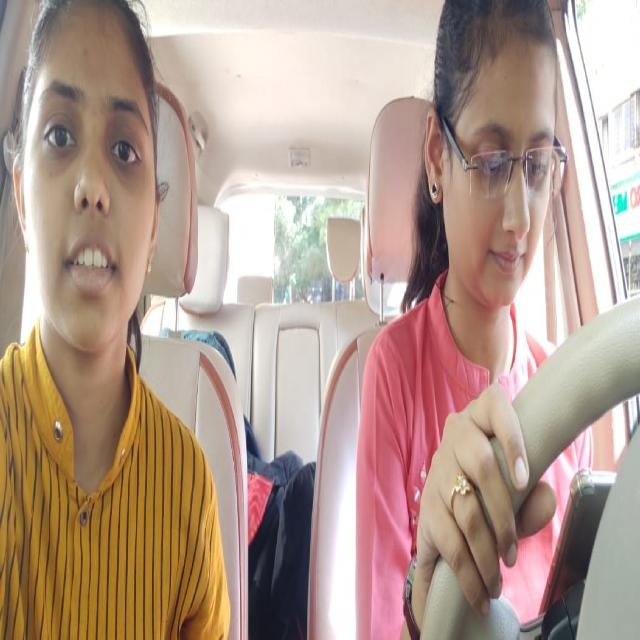mobile: (539, 462, 621, 640)
person: (13, 0, 162, 374), (424, 0, 560, 307)
